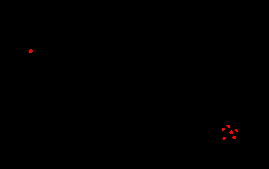Target: (29, 49, 33, 53), (229, 130, 233, 134), (226, 125, 230, 128), (232, 136, 236, 139), (222, 128, 225, 131), (235, 129, 238, 132), (223, 137, 226, 140)
